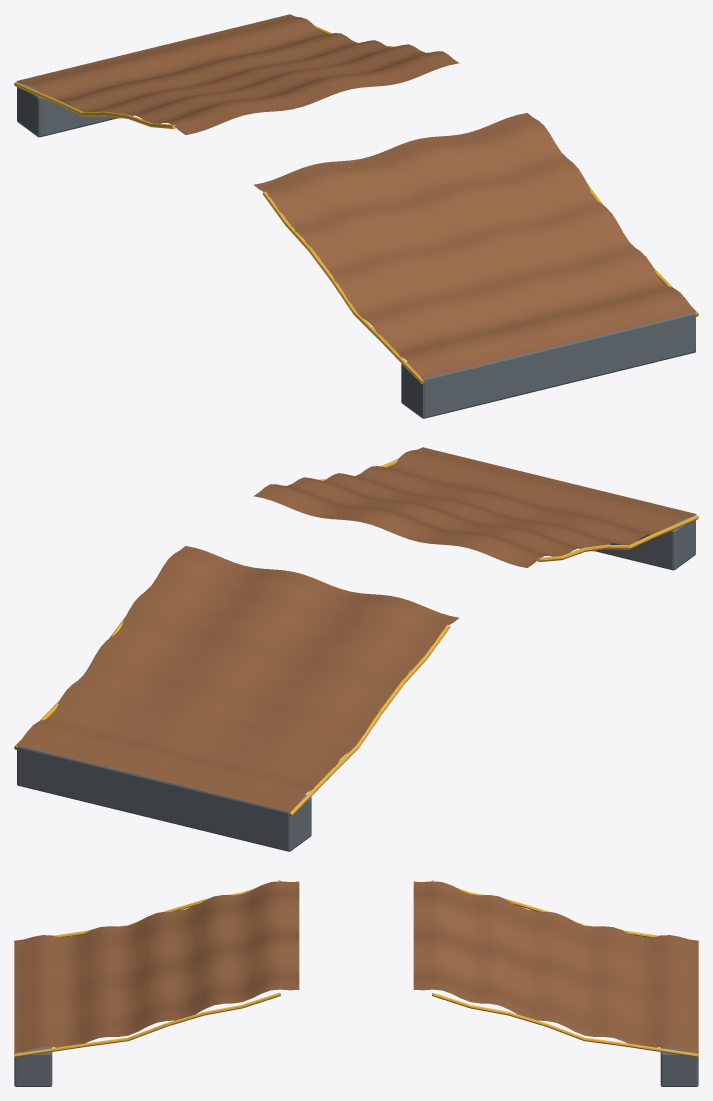
Rendered from lane_jump.glb.
3 views of the same model, one above another, from view 1: azimuth 30°, elevation 25°; view 2: azimuth 150°, elevation 25°; view 3: azimuth 270°, elevation 25° (orthographic). The views are drawn at different scales.
Parts seen in each view (by area): view 1: Ride_Ramp.002, Ramp foundation.005, Ramp foundation.004; view 2: Ride_Ramp.002, Ramp foundation.004, Ramp foundation.005; view 3: Ride_Ramp.002, Ramp foundation.004, Ramp foundation.005.
Part boxes in pixels (x1,y1,x2,y2): Ride_Ramp.002: [16, 14, 696, 378]; Ramp foundation.005: [401, 312, 695, 418]; Ramp foundation.004: [17, 82, 117, 137]; Ride_Ramp.002: [16, 447, 696, 811]; Ramp foundation.004: [17, 745, 311, 851]; Ramp foundation.005: [595, 515, 695, 570]; Ride_Ramp.002: [14, 881, 698, 1052]; Ramp foundation.004: [660, 1047, 698, 1086]; Ramp foundation.005: [14, 1047, 52, 1086].
Size of the model in its own units: 14.2 by 5.71 by 36.03.
